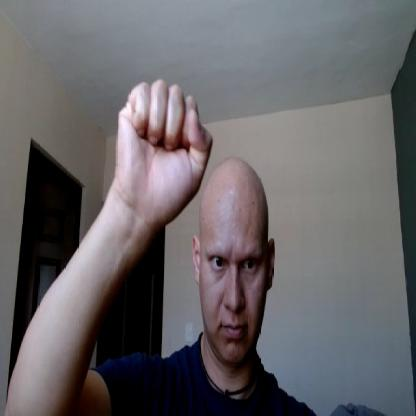S: (113, 77, 216, 220)
